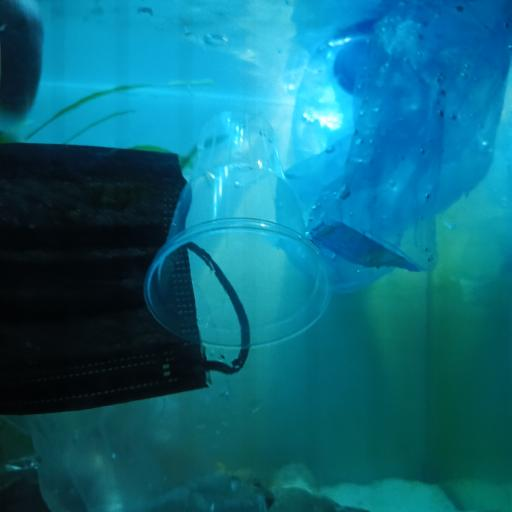mask: (0, 139, 252, 412)
plastic_bag: (277, 0, 512, 292), (0, 342, 258, 512)
plastic_cup: (144, 108, 334, 351)
